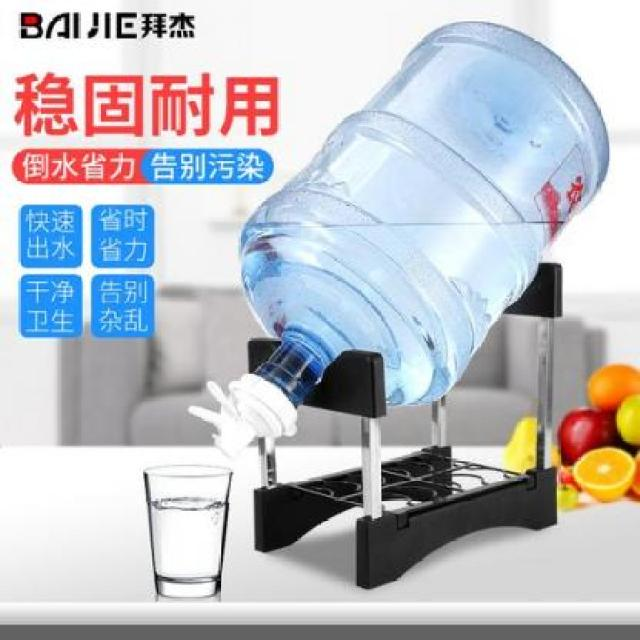coolerbottle: (235, 14, 614, 421)
